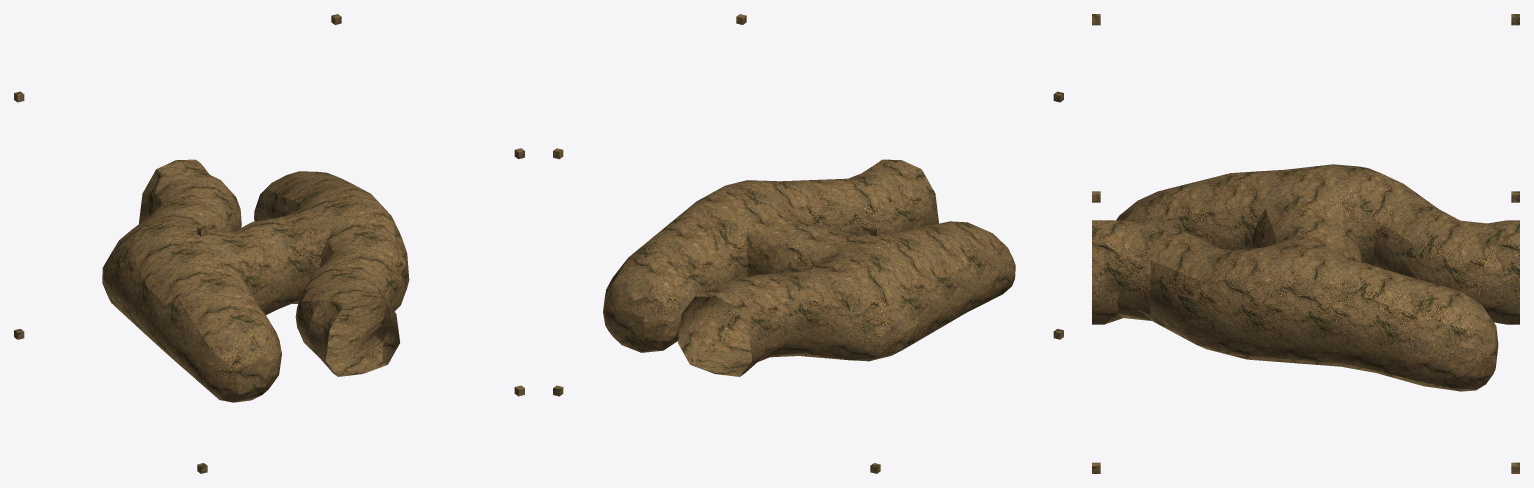
The model's file is lba_2j.glb.
3 views of the same model, side by side, from view 1: azimuth 30°, elevation 25°; view 2: azimuth 150°, elevation 25°; view 3: azimuth 270°, elevation 25° (orthographic). The views are drawn at different scales.
Visible parts, largest first — view 1: lba_2j; view 2: lba_2j; view 3: lba_2j.
Part boxes in pixels (x1,y1,x2,y2): lba_2j: (14, 14, 524, 473); lba_2j: (553, 14, 1063, 473); lba_2j: (1092, 14, 1519, 473).
Size of the model in its own units: 15 by 10.8 by 15.
1 material, 1 textured.
